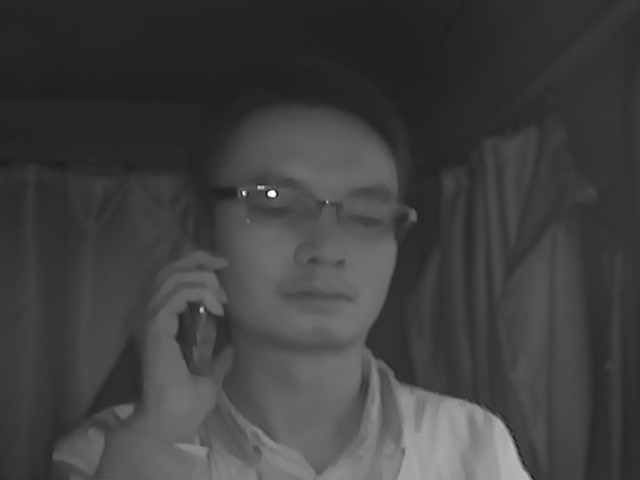hand: (131, 247, 238, 420)
